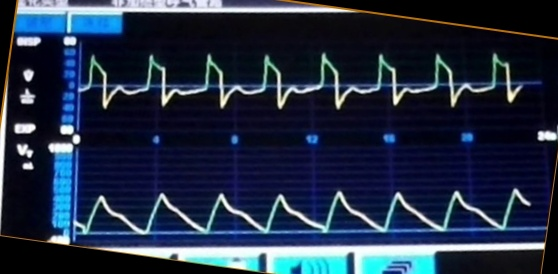Premature_cycling Flow: (82, 48, 524, 124)
Premature_cycling Volume: (78, 181, 532, 240)
